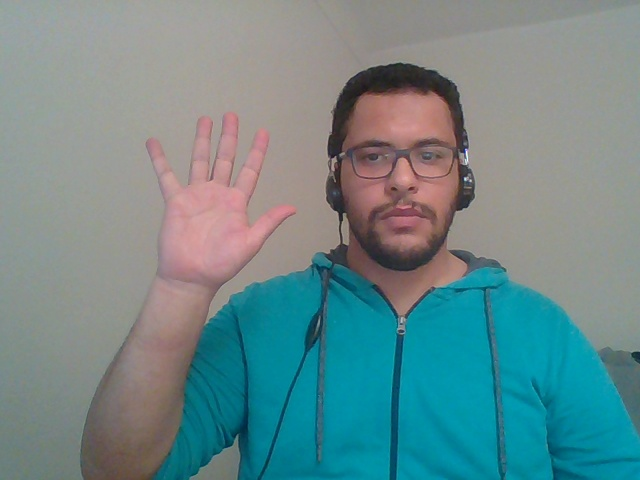hello: (113, 95, 309, 361)
